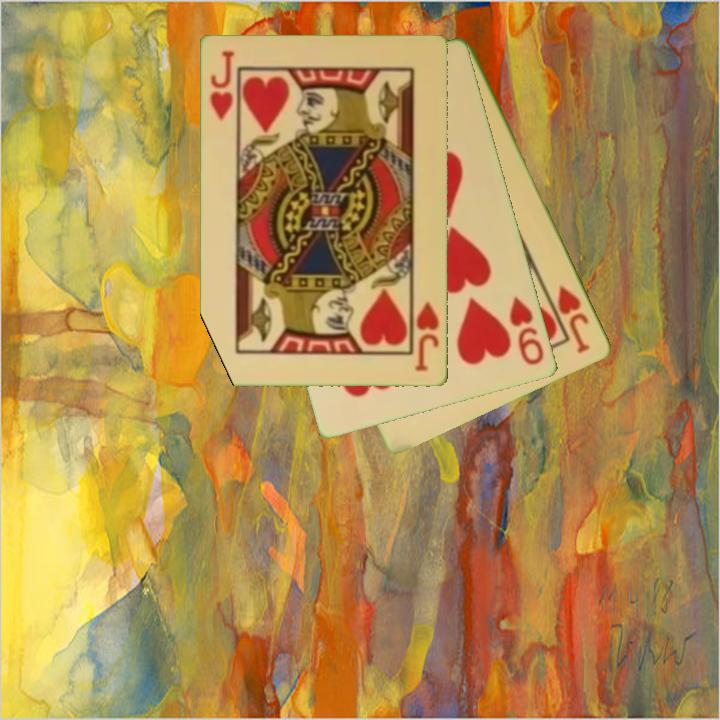9h: (506, 293, 547, 369)
Jh: (554, 282, 593, 357), (412, 298, 442, 374), (207, 47, 237, 123)
